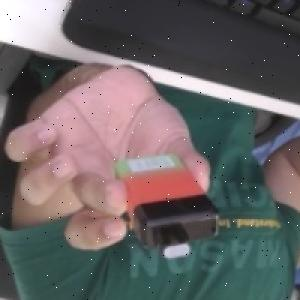Swift-E-Ciggirate: (111, 149, 223, 260)
